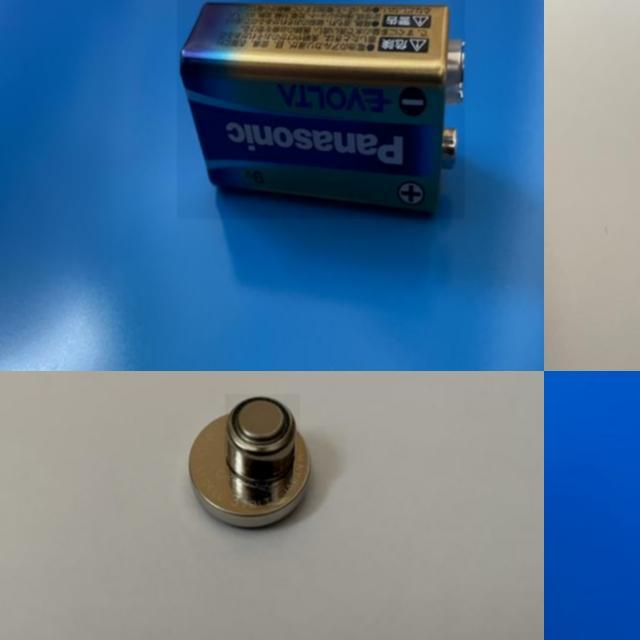9V: (177, 0, 465, 219)
